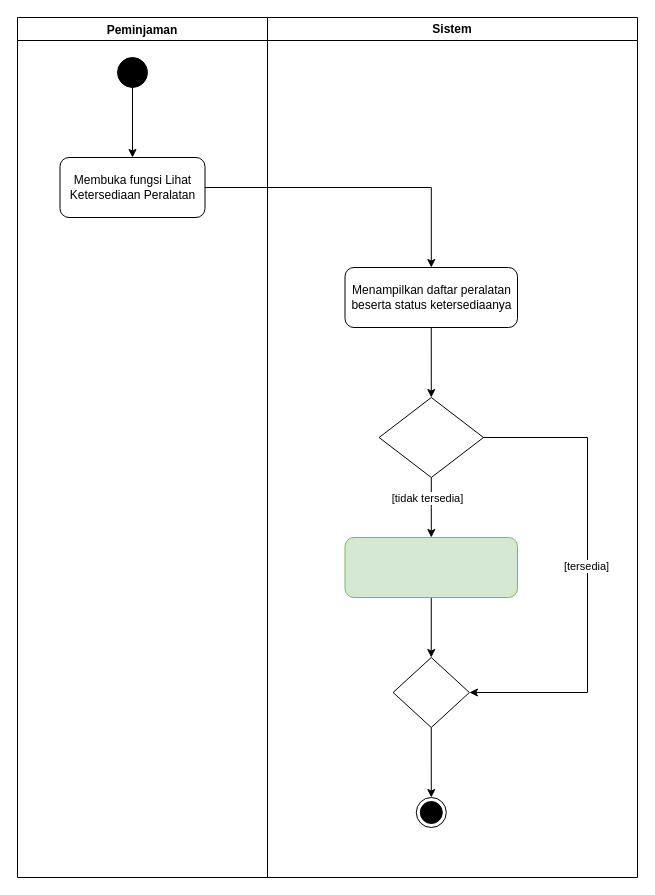
This 655x895 diagram has some shape labels left out. The centre of each missing label's shape, as x and y in pixels:
"Menampilkan pesan tidak ada peralatan yang tersedia" goes at point (431, 567).
"Peralatan tersedia?" goes at point (431, 437).
